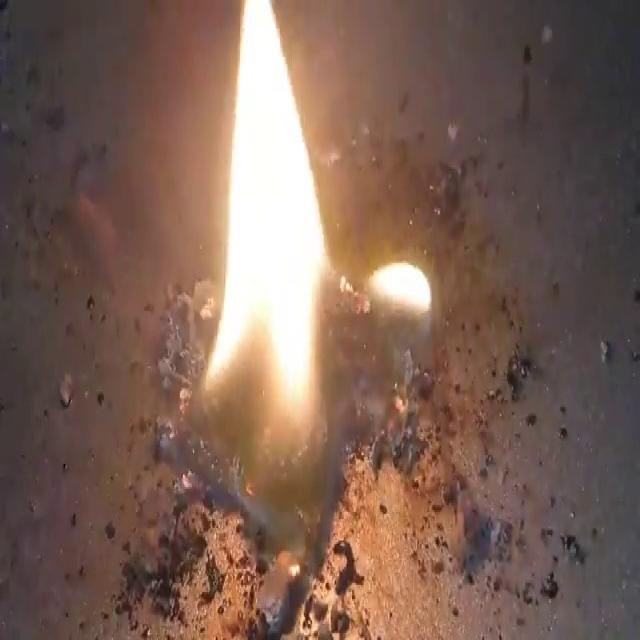Fire: (202, 4, 330, 439)
